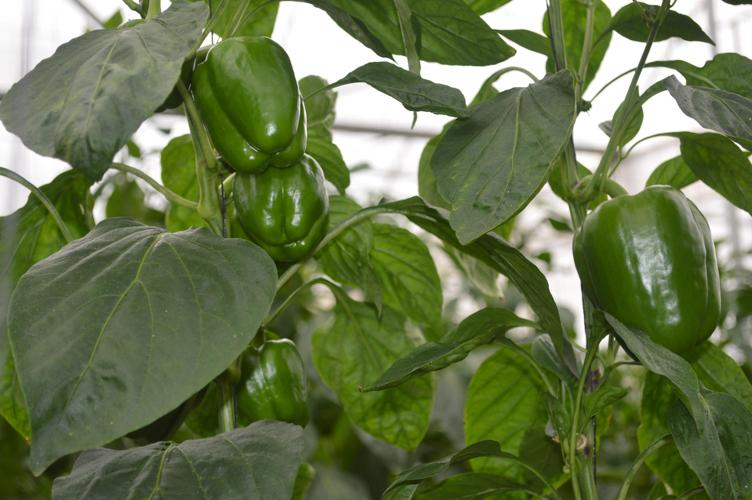BellPepper: (568, 179, 730, 358), (182, 32, 318, 176), (214, 155, 340, 260), (224, 346, 322, 430)
